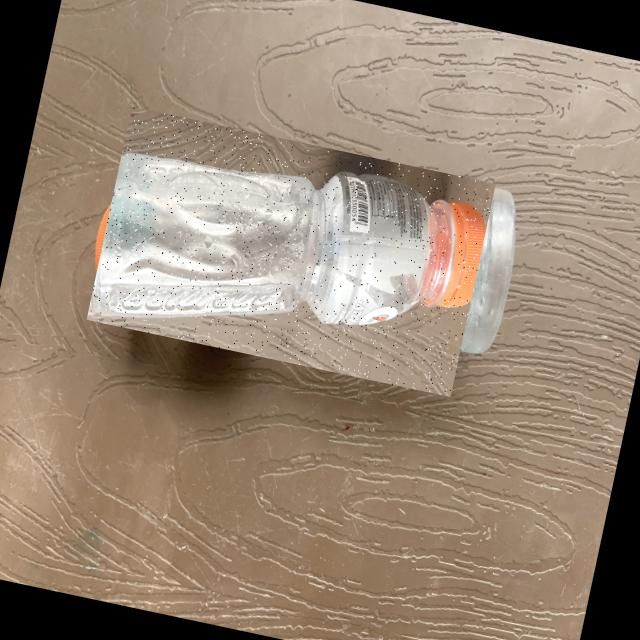REJECT: (86, 106, 495, 397)
